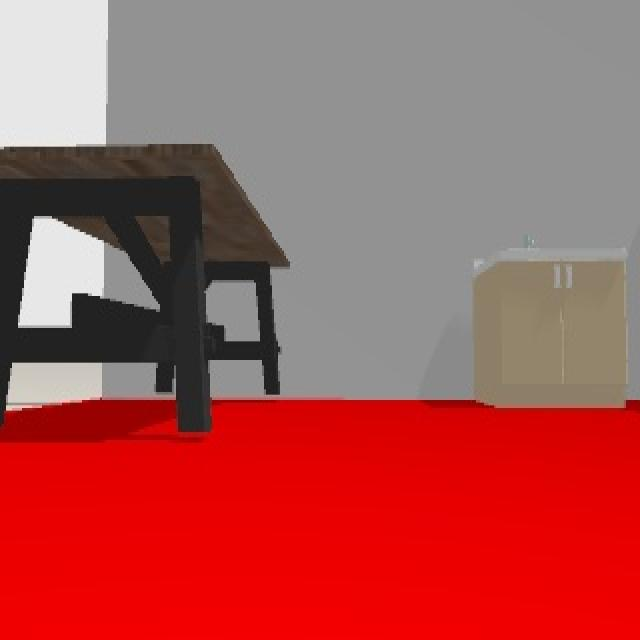dining: (0, 144, 292, 431)
